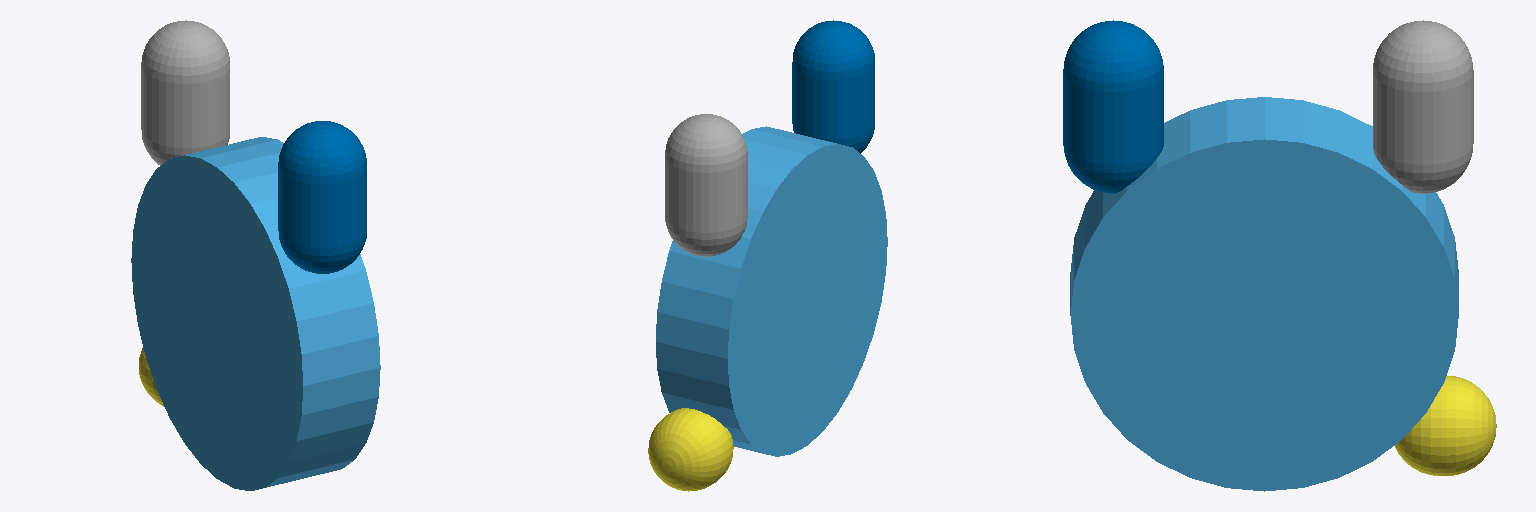
The robot description file, URDF, robot "DexterousHand":
<?xml version="1.0"?>
<robot name="DexterousHand">


    <link name="world"/>
    <joint name="world_to_palm" type="fixed">
        <parent link="world"/>
        <child link="palm"/>
        <origin xyz="0 0 0" rpy="0 0 0"/>
    </joint>
    <link name="palm">
        <inertial>
            <origin xyz="0 0 0.057" rpy="0 0 0"/>
            <mass value="0.30212892864"/>
            <inertia ixx="0.00049080844457568" ixy="0.0" ixz="0.0" iyy="0.00026746366246427523" iyz="0.0" izz="0.00026746366246427523"/>
        </inertial>
        <visual>
            <origin xyz="0 0 0.057" rpy="1.5708 0 1.5708"/>
            <geometry>
                <cylinder radius="0.057" length="0.0296"/>
            </geometry>
            <material name="default"/>
        </visual>
        <collision>
            <origin xyz="0 0 0.057" rpy="1.5708 0 1.5708"/>
            <geometry>
                <cylinder radius="0.057" length="0.0296"/>
            </geometry>
        </collision>
    </link>

    
    <joint name="thumb_joint1" type="revolute">
        <parent link="palm"/>
        <child link="thumb_base"/>
        <origin xyz="0.0029 0.0368 0.0157" rpy="-1.5708 -1.5708 0.0"/>
        <axis xyz="-1 0 0"/>
        <limit lower="-0.349" upper="2.094" effort="1.0" velocity="1.0"/>
    </joint>

    <link name="thumb_base"></link>

    <joint name="thumb_joint2" type="revolute">
        <parent link="thumb_base"/>
        <child link="thumb_proximal"/>
        <origin xyz="0.0 0.0 0.0" rpy="0.0 0.0 0.0"/>
        <axis xyz="0 0 1"/>
        <limit lower="-0.47" upper="2.443" effort="1.0" velocity="1.0"/>
    </joint>

    <link name="thumb_proximal">
        <inertial>
            <origin xyz="0 0 0.01565" rpy="0 0 0"/>
            <mass value="0.021538658803200002"/>
            <inertia ixx="2.9378910096388167e-06" ixy="0.0" ixz="0.0" 
            iyy="2.9378910096388167e-06" iyz="0.0" izz="2.358913912126464e-06"/>
        </inertial>
        <visual>
            <origin xyz="0 0 0.01565" rpy="0 0 0"/>
            <geometry>
                <cylinder radius="0.0148" length="0.0017000000000000001"/>
            </geometry>
            <material name="default"/>
        </visual>
        <visual>
            <origin xyz="0 0 0.0148" rpy="0 0 0"/>
            <geometry>
                <sphere radius="0.0148"/>
            </geometry>
            <material name="default"/>
        </visual>
        <visual>
            <origin xyz="0 0 0.0165" rpy="0 0 0"/>
            <geometry>
                <sphere radius="0.0148"/>
            </geometry>
            <material name="default"/>
        </visual>
        <collision>
            <origin xyz="0 0 0.01565" rpy="0 0 0"/>
            <geometry>
                <cylinder radius="0.0148" length="0.0017000000000000001"/>
            </geometry>
        </collision>
        <collision>
            <origin xyz="0 0 0.0148" rpy="0 0 0"/>
            <geometry>
                <sphere radius="0.0148"/>
            </geometry>
        </collision>
        <collision>
            <origin xyz="0 0 0.0165" rpy="0 0 0"/>
            <geometry>
                <sphere radius="0.0148"/>
            </geometry>
        </collision>
    </link>

    <joint name="thumb_joint3" type="revolute">
        <parent link="thumb_proximal"/>
        <child link="thumb_knuckle"/>
        <origin xyz="0.0 0.0 0.0" rpy="0.0 0.0 0.0"/>
        <axis xyz="1 0 0"/>
        <limit lower="0.0" upper="0.0" effort="1.0" velocity="1.0"/>
    </joint>

    <link name="thumb_knuckle"></link>

    <joint name="thumb_joint4" type="revolute">
        <parent link="thumb_knuckle"/>
        <child link="thumb_middle"/>
        <origin xyz="0 0 0" rpy="0 0 0"/> 
        <axis xyz="0 1 0"/>
        <limit lower="0.0" upper="0.0" effort="1.0" velocity="1.0"/>
    </joint>

    <link name="thumb_middle">
    </link>

    <joint name="thumb_joint5" type="revolute">
        <parent link="thumb_middle"/>
        <child link="thumb_distal"/>
        <origin xyz="0 0 0" rpy="0 0 0"/> 
        <axis xyz="0 1 0"/>
        <limit lower="0.0" upper="0.0" effort="1.0" velocity="1.0"/>
    </joint>

    <link name="thumb_distal">
    </link>

    
    <joint name="index_joint1" type="revolute">
        <parent link="palm"/>
        <child link="index_proximal"/>
        <origin xyz="0.0 0.0465 0.091" rpy="0.0 0.0 0.0"/>
        <axis xyz="0 1 0"/>
        <limit lower="-0.314" upper="2.23" effort="1.0" velocity="1.0"/>
    </joint>

    <link name="index_proximal">
        <inertial>
            <origin xyz="0 0 0.02655" rpy="0 0 0"/>
            <mass value="0.036540024998400006"/>
            <inertia ixx="1.058665009272394e-05" ixy="0.0" ixz="0.0" 
            iyy="1.058665009272394e-05" iyz="0.0" izz="4.001863537824769e-06"/>
        </inertial>
        <visual>
            <origin xyz="0 0 0.02655" rpy="0 0 0"/>
            <geometry>
                <cylinder radius="0.0148" length="0.0235"/>
            </geometry>
            <material name="default"/>
        </visual>
        <visual>
            <origin xyz="0 0 0.0148" rpy="0 0 0"/>
            <geometry>
                <sphere radius="0.0148"/>
            </geometry>
            <material name="default"/>
        </visual>
        <visual>
            <origin xyz="0 0 0.0383" rpy="0 0 0"/>
            <geometry>
                <sphere radius="0.0148"/>
            </geometry>
            <material name="default"/>
        </visual>
        <collision>
            <origin xyz="0 0 0.02655" rpy="0 0 0"/>
            <geometry>
                <cylinder radius="0.0148" length="0.0235"/>
            </geometry>
        </collision>
        <collision>
            <origin xyz="0 0 0.0148" rpy="0 0 0"/>
            <geometry>
                <sphere radius="0.0148"/>
            </geometry>
        </collision>
        <collision>
            <origin xyz="0 0 0.0383" rpy="0 0 0"/>
            <geometry>
                <sphere radius="0.0148"/>
            </geometry>
        </collision>
    </link>

    <joint name="index_joint2" type="revolute">
        <parent link="index_proximal"/>
        <child link="index_dummy"/>
        <origin xyz="0.0 0.0 0.038" rpy="0.0 0.0 0.0"/>
        <axis xyz="0 1 0"/>
        <limit lower="0.0" upper="0.0" effort="1.0" velocity="1.0"/>
    </joint>

    <link name="index_dummy"></link>

    <joint name="index_joint3" type="revolute">
        <parent link="index_dummy"/>
        <child link="index_middle"/>
        <origin xyz="0 0 0.015100000000000002" rpy="0 0 0"/>
        <axis xyz="0 1 0"/>
        <limit lower="0.0" upper="0.0" effort="1.0" velocity="1.0"/>
    </joint>

    <link name="index_middle">
    </link>

    <joint name="index_joint4" type="revolute">
        <parent link="index_middle"/>
        <child link="index_distal"/>
        <origin xyz="0 0 0" rpy="0 0 0"/> 
        <axis xyz="0 1 0"/>
        <limit lower="0.0" upper="0.0" effort="1.0" velocity="1.0"/>
    </joint>

    <link name="index_distal">
    </link>

    
    <joint name="middle_joint1" type="revolute">
        <parent link="palm"/>
        <child link="middle_proximal"/>
        <origin xyz="0.0 0.0 0.0" rpy="0.0 0.0 0.0"/>
        <axis xyz="1 0 0"/>
        <limit lower="0.0" upper="0.0" effort="1.0" velocity="1.0"/>
    </joint>

    <link name="middle_proximal">
    </link>

    <joint name="middle_joint2" type="revolute">
        <parent link="middle_proximal"/>
        <child link="middle_dummy"/>
        <origin xyz="0.0 0.0 0.0" rpy="0.0 0.0 0.0"/>
        <axis xyz="0 1 0"/>
        <limit lower="0.0" upper="0.0" effort="1.0" velocity="1.0"/>
    </joint>

    <link name="middle_dummy"></link>

    <joint name="middle_joint3" type="revolute">
        <parent link="middle_dummy"/>
        <child link="middle_middle"/>
        <origin xyz="0 0 0" rpy="0 0 0"/>
        <axis xyz="0 1 0"/>
        <limit lower="0.0" upper="0.0" effort="1.0" velocity="1.0"/>
    </joint>

    <link name="middle_middle">
    </link>

    <joint name="middle_joint4" type="revolute">
        <parent link="middle_middle"/>
        <child link="middle_distal"/>
        <origin xyz="0 0 0" rpy="0 0 0"/> 
        <axis xyz="0 1 0"/>
        <limit lower="0.0" upper="0.0" effort="1.0" velocity="1.0"/>
    </joint>

    <link name="middle_distal">
    </link>

    
    <joint name="ring_joint1" type="revolute">
        <parent link="palm"/>
        <child link="ring_proximal"/>
        <origin xyz="0.0 0.0 0.0" rpy="0.0 0.0 0.0"/>
        <axis xyz="1 0 0"/>
        <limit lower="0.0" upper="0.0" effort="1.0" velocity="1.0"/>
    </joint>

    <link name="ring_proximal">
    </link>

    <joint name="ring_joint2" type="revolute">
        <parent link="ring_proximal"/>
        <child link="ring_dummy"/>
        <origin xyz="0.0 0.0 0.0" rpy="0.0 0.0 0.0"/>
        <axis xyz="0 1 0"/>
        <limit lower="0.0" upper="0.0" effort="1.0" velocity="1.0"/>
    </joint>

    <link name="ring_dummy"></link>

    <joint name="ring_joint3" type="revolute">
        <parent link="ring_dummy"/>
        <child link="ring_middle"/>
        <origin xyz="0 0 0" rpy="0 0 0"/>
        <axis xyz="0 1 0"/>
        <limit lower="0.0" upper="0.0" effort="1.0" velocity="1.0"/>
    </joint>

    <link name="ring_middle">
    </link>

    <joint name="ring_joint4" type="revolute">
        <parent link="ring_middle"/>
        <child link="ring_distal"/>
        <origin xyz="0 0 0" rpy="0 0 0"/> 
        <axis xyz="0 1 0"/>
        <limit lower="0.0" upper="0.0" effort="1.0" velocity="1.0"/>
    </joint>

    <link name="ring_distal">
    </link>

    
    <joint name="little_joint0" type="revolute">
        <parent link="palm"/>
        <child link="little_base"/>
        <origin xyz="0.0 0.0 0.0" rpy="0.0 0.0 0.0"/>
        <axis xyz="0 1 0"/>
        <limit lower="0.0" upper="0.0" effort="1.0" velocity="1.0"/>
    </joint>

    <link name="little_base"></link>

    <joint name="little_joint1" type="revolute">
        <parent link="little_base"/>
        <child link="little_proximal"/>
        <origin xyz="0.0 -0.0443 0.091" rpy="-0.0 -0.0 -0.0"/>
        <axis xyz="0 1 0"/>
        <limit lower="-0.314" upper="2.23" effort="1.0" velocity="1.0"/>
    </joint>

    <link name="little_proximal">
        <inertial>
            <origin xyz="0 0 0.02655" rpy="0 0 0"/>
            <mass value="0.036540024998400006"/>
            <inertia ixx="1.058665009272394e-05" ixy="0.0" ixz="0.0" 
            iyy="1.058665009272394e-05" iyz="0.0" izz="4.001863537824769e-06"/>
        </inertial>
        <visual>
            <origin xyz="0 0 0.02655" rpy="0 0 0"/>
            <geometry>
                <cylinder radius="0.0148" length="0.0235"/>
            </geometry>
            <material name="default"/>
        </visual>
        <visual>
            <origin xyz="0 0 0.0148" rpy="0 0 0"/>
            <geometry>
                <sphere radius="0.0148"/>
            </geometry>
            <material name="default"/>
        </visual>
        <visual>
            <origin xyz="0 0 0.0383" rpy="0 0 0"/>
            <geometry>
                <sphere radius="0.0148"/>
            </geometry>
            <material name="default"/>
        </visual>
        <collision>
            <origin xyz="0 0 0.02655" rpy="0 0 0"/>
            <geometry>
                <cylinder radius="0.0148" length="0.0235"/>
            </geometry>
        </collision>
        <collision>
            <origin xyz="0 0 0.0148" rpy="0 0 0"/>
            <geometry>
                <sphere radius="0.0148"/>
            </geometry>
        </collision>
        <collision>
            <origin xyz="0 0 0.0383" rpy="0 0 0"/>
            <geometry>
                <sphere radius="0.0148"/>
            </geometry>
        </collision>
    </link>

    <joint name="little_joint2" type="revolute">
        <parent link="little_proximal"/>
        <child link="little_dummy"/>
        <origin xyz="0.0 0.0 0.038" rpy="0.0 0.0 0.0"/>
        <axis xyz="0 1 0"/>
        <limit lower="0.0" upper="0.0" effort="1.0" velocity="1.0"/>
    </joint>

    <link name="little_dummy"></link>

    <joint name="little_joint3" type="revolute">
        <parent link="little_dummy"/>
        <child link="little_middle"/>
        <origin xyz="0 0 0.015100000000000002" rpy="0 0 0"/>
        <axis xyz="0 1 0"/>
        <limit lower="0.0" upper="0.0" effort="1.0" velocity="1.0"/>
    </joint>

    <link name="little_middle">
    </link>

    <joint name="little_joint4" type="revolute">
        <parent link="little_middle"/>
        <child link="little_distal"/>
        <origin xyz="0 0 0" rpy="0 0 0"/>
        <axis xyz="0 1 0"/>
        <limit lower="0.0" upper="0.0" effort="1.0" velocity="1.0"/>
    </joint>

    <link name="little_distal">
    </link>

</robot>

--- Facts derived from the render (not from the file) ---
The picture shows the robot from 3 angles, left to right: view 1: azimuth 30°, elevation 25°; view 2: azimuth 150°, elevation 25°; view 3: azimuth 270°, elevation 25°; orthographic projection.
Robot: DexterousHand — 24 links, 23 joints (22 revolute, 1 fixed); root link world; default pose: every joint at zero.
Visible links, largest first — view 1: palm, little_proximal, index_proximal; view 2: palm, index_proximal, little_proximal, thumb_proximal; view 3: palm, index_proximal, little_proximal, thumb_proximal.
Boxes of the visible links, x1=… form: palm: x1=131, y1=137, x2=380, y2=490; little_proximal: x1=278, y1=121, x2=366, y2=273; index_proximal: x1=141, y1=20, x2=229, y2=165; palm: x1=656, y1=126, x2=887, y2=456; index_proximal: x1=665, y1=114, x2=747, y2=256; little_proximal: x1=792, y1=20, x2=874, y2=153; thumb_proximal: x1=648, y1=408, x2=733, y2=491; palm: x1=1070, y1=97, x2=1458, y2=491; index_proximal: x1=1373, y1=20, x2=1473, y2=193; little_proximal: x1=1063, y1=20, x2=1163, y2=193; thumb_proximal: x1=1395, y1=376, x2=1496, y2=475.
Bounding box of the posed robot: 0.0325 × 0.1272 × 0.1441 m (x, y, z).
Geometry: primitives only (box / cylinder / sphere), no mesh files.
